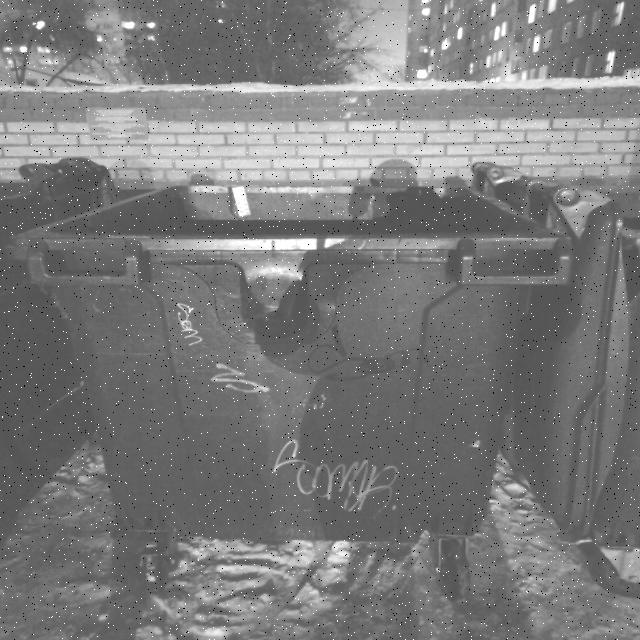Trashcan: (15, 113, 581, 603)
